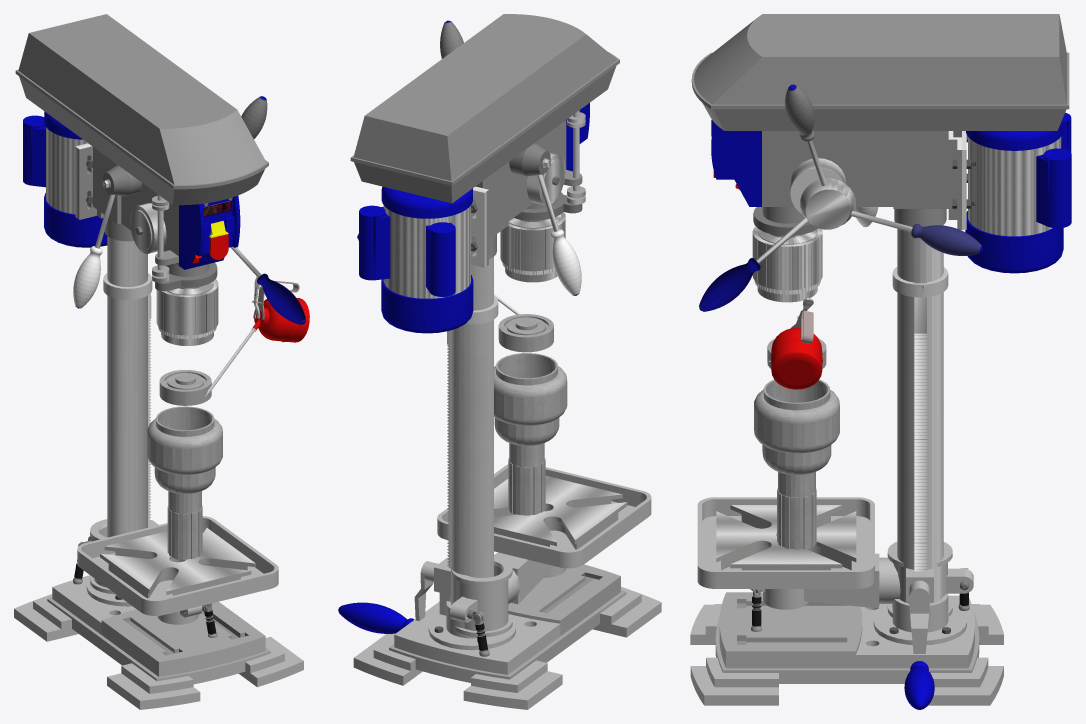
3 renders of one model, left to right at view 1: azimuth 30°, elevation 25°; view 2: azimuth 150°, elevation 25°; view 3: azimuth 270°, elevation 25°, orthographic. The views are drawn at different scales.
Visible parts, largest first — view 1: 01, 04, 1.003, 03, Oiler, 02.001, 2; view 2: 01, 04, 1.003, 03, 2, 02.001; view 3: 01, 04, 1.003, 02.001, 03, Oiler.
Boxes of the visible parts, <box> form: 01: <box>14,14,303,709</box>; 04: <box>73,516,278,637</box>; 1.003: <box>147,406,222,560</box>; 03: <box>156,279,218,345</box>; Oiler: <box>205,277,309,397</box>; 02.001: <box>230,96,305,324</box>; 2: <box>159,370,211,405</box>; 01: <box>350,14,661,709</box>; 04: <box>338,464,651,656</box>; 1.003: <box>494,353,567,515</box>; 03: <box>500,212,565,282</box>; 2: <box>498,314,553,352</box>; 02.001: <box>357,20,463,240</box>; 01: <box>690,14,1071,705</box>; 04: <box>697,497,973,709</box>; 1.003: <box>754,379,839,549</box>; 02.001: <box>699,84,982,311</box>; 03: <box>752,226,822,302</box>; Oiler: <box>768,298,822,389</box>.
Size of the model in its own units: 485 by 1225 by 676.
41 materials, 11 textured.
